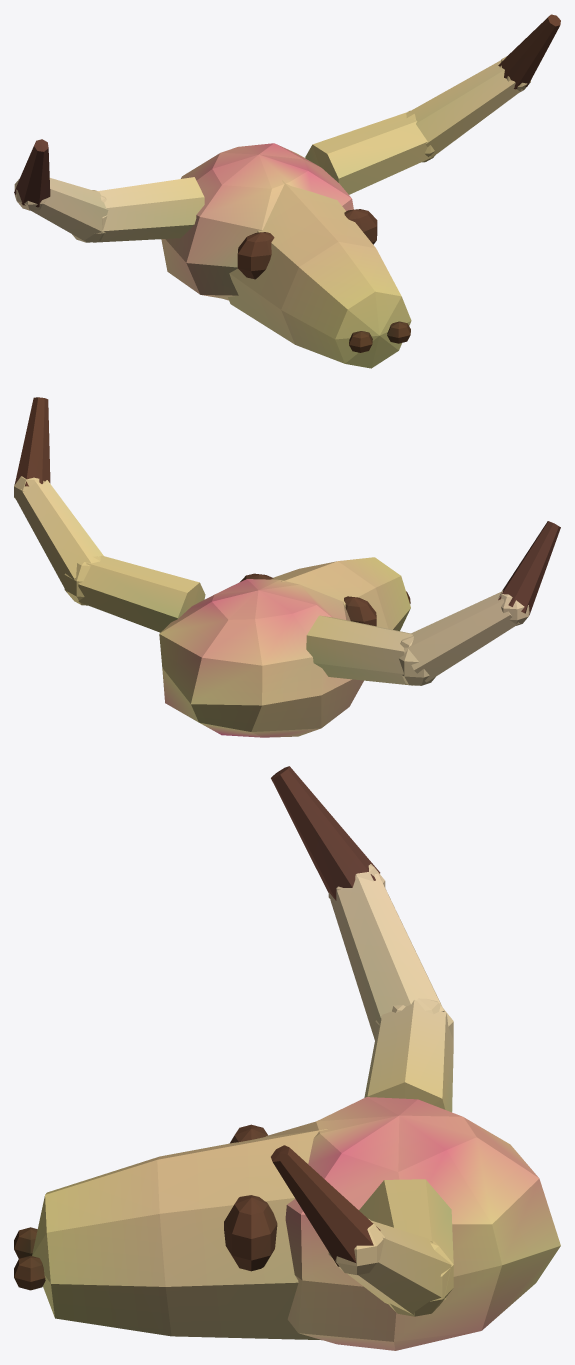
File: Skull_Bull_01.glb
3 views of the same model, one above another, from view 1: azimuth 30°, elevation 25°; view 2: azimuth 150°, elevation 25°; view 3: azimuth 270°, elevation 25° (orthographic). The views are drawn at different scales.
Visible parts, largest first — view 1: Skull_Bull_01; view 2: Skull_Bull_01; view 3: Skull_Bull_01.
Part boxes in pixels (bbox=[...]): Skull_Bull_01: bbox=[14, 14, 560, 368]; Skull_Bull_01: bbox=[14, 397, 560, 737]; Skull_Bull_01: bbox=[14, 766, 560, 1350].
Bounding box in the file's own units: 0.9628 × 0.4364 × 0.5699.
